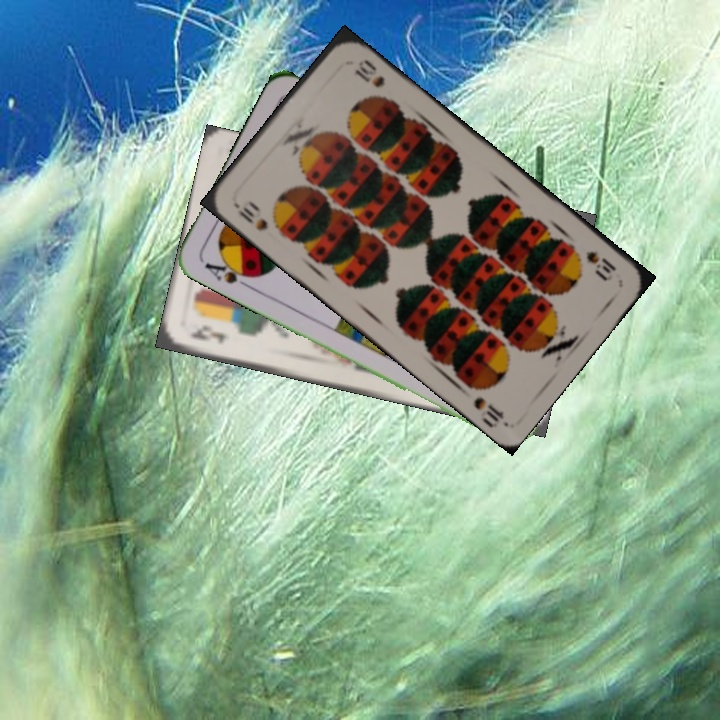EK: (186, 321, 232, 346)
S10: (581, 246, 619, 282), (234, 202, 271, 234)
SA: (200, 254, 259, 292)
